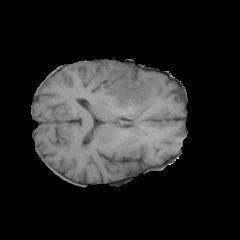glioma: (103, 67, 160, 114)
